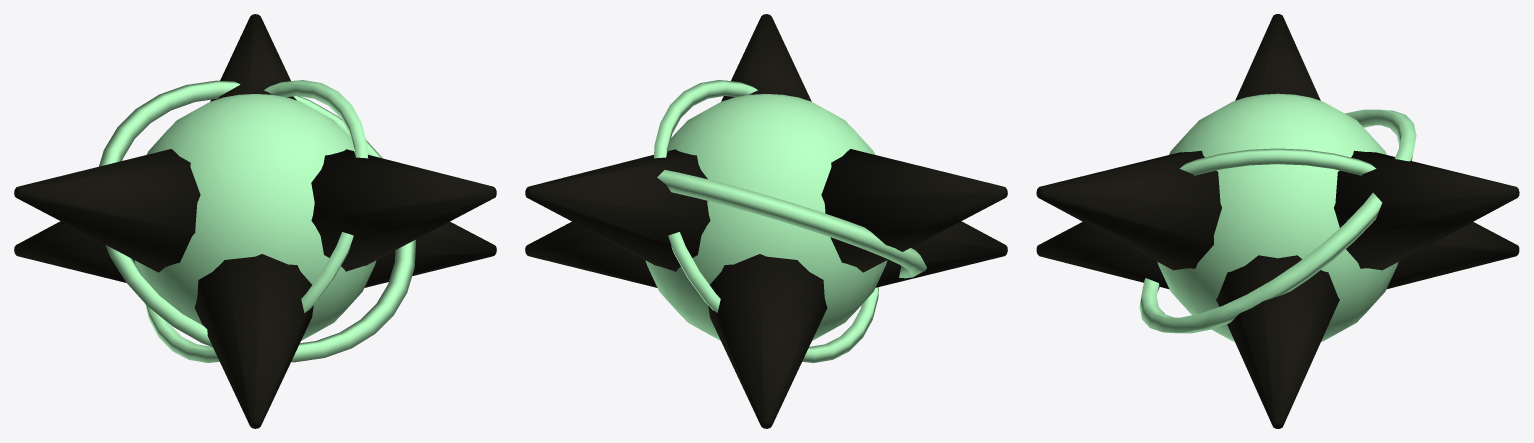
The model's file is samenkern.obj.
3 views of the same model, side by side, from view 1: azimuth 30°, elevation 25°; view 2: azimuth 150°, elevation 25°; view 3: azimuth 270°, elevation 25° (orthographic).
Parts seen in each view (by area): view 1: Samenkern; view 2: Samenkern; view 3: Samenkern.
Part boxes in pixels (box(x1,y1,x2,y2)): Samenkern: box(14, 14, 496, 428); Samenkern: box(525, 14, 1007, 428); Samenkern: box(1036, 14, 1519, 428).
Size of the model in its own units: 0.9501 by 0.44 by 0.8289.
